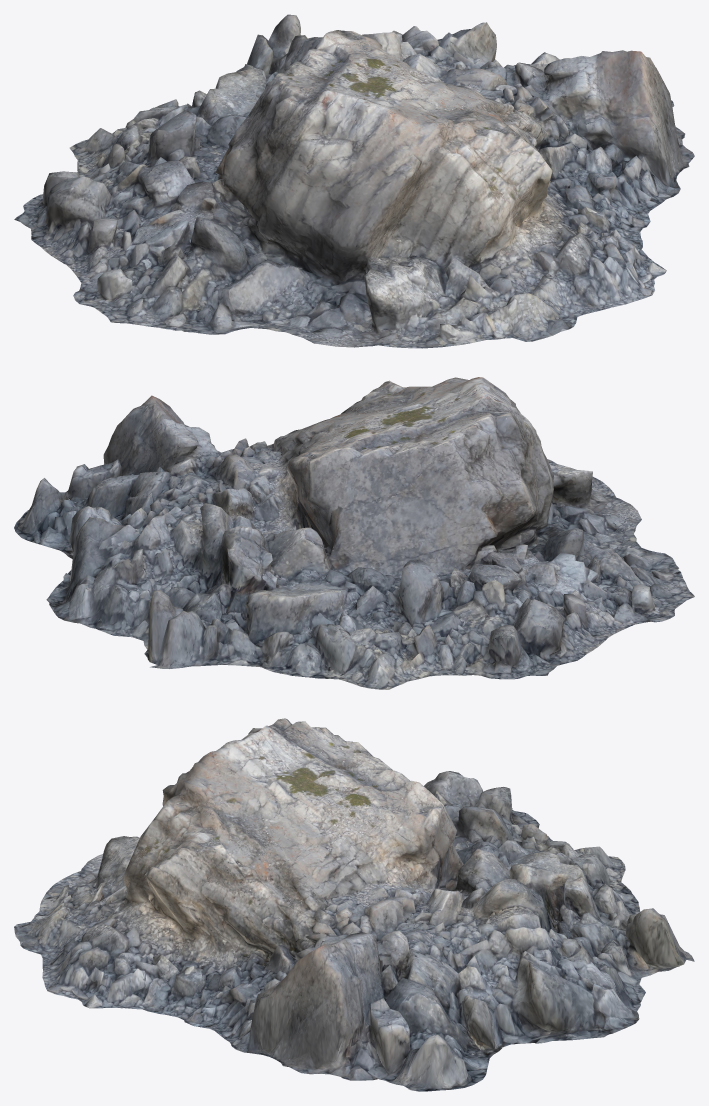
File: pedra.fbx
The picture shows the model from 3 angles, top to bottom: view 1: azimuth 30°, elevation 25°; view 2: azimuth 150°, elevation 25°; view 3: azimuth 270°, elevation 25°; orthographic projection. The views are drawn at different scales.
Parts seen in each view (by area): view 1: Low Poly Alpine Rock; view 2: Low Poly Alpine Rock; view 3: Low Poly Alpine Rock.
Part boxes in pixels (box(x1,y1,x2,y2)): Low Poly Alpine Rock: box(14, 14, 694, 348); Low Poly Alpine Rock: box(14, 377, 694, 689); Low Poly Alpine Rock: box(14, 718, 694, 1091).
Size of the model in its own units: 9.3 by 2.5 by 8.75.
Materials: 1 (1 with a texture image).
